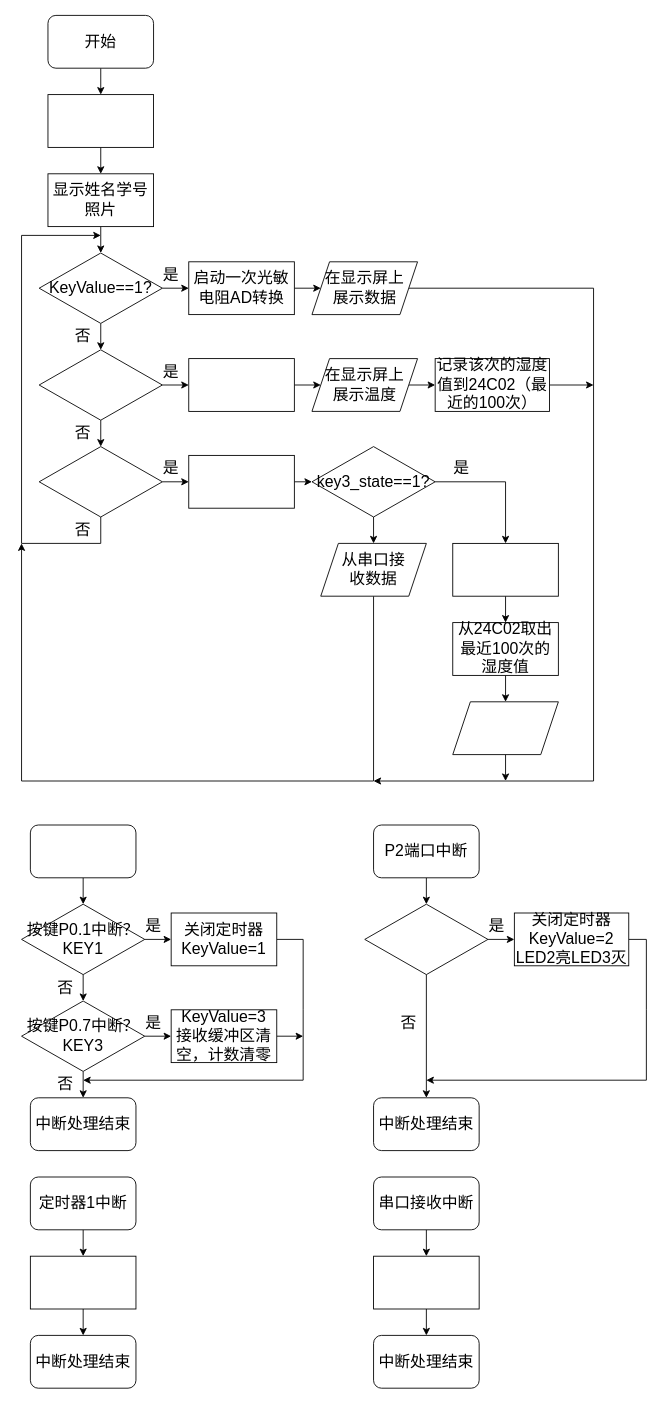
This 669x1404 diagram has some shape labels left out. The shapes that lost their labels are listed below. From the top down, each one's centre as x and y in pixels, then its label:
At point 100,120: "初始化串口，LCD屏幕".
At point 100,384: "KeyValue==2?".
At point 241,384: "SHT11获取温湿度数据".
At point 100,481: "KeyValue==3?".
At point 241,481: "初始化定时器 （1次）".
At point 505,569: "LED3常亮".
At point 505,728: "通过串口发送数据".
At point 82,851: "P0端口中断".
At point 426,939: "按键P2.0中断？ KEY2".
At point 82,1282: "LED3 = !LED3;".
At point 426,1282: "取出字符".
